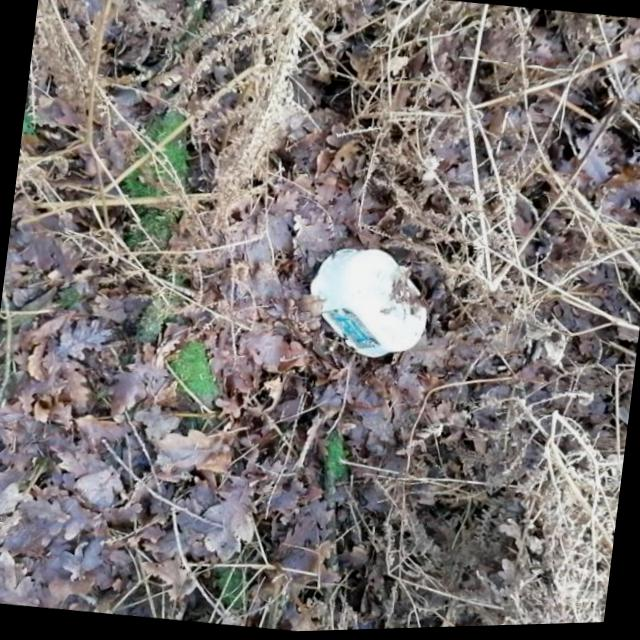Paper: (297, 238, 436, 370)
